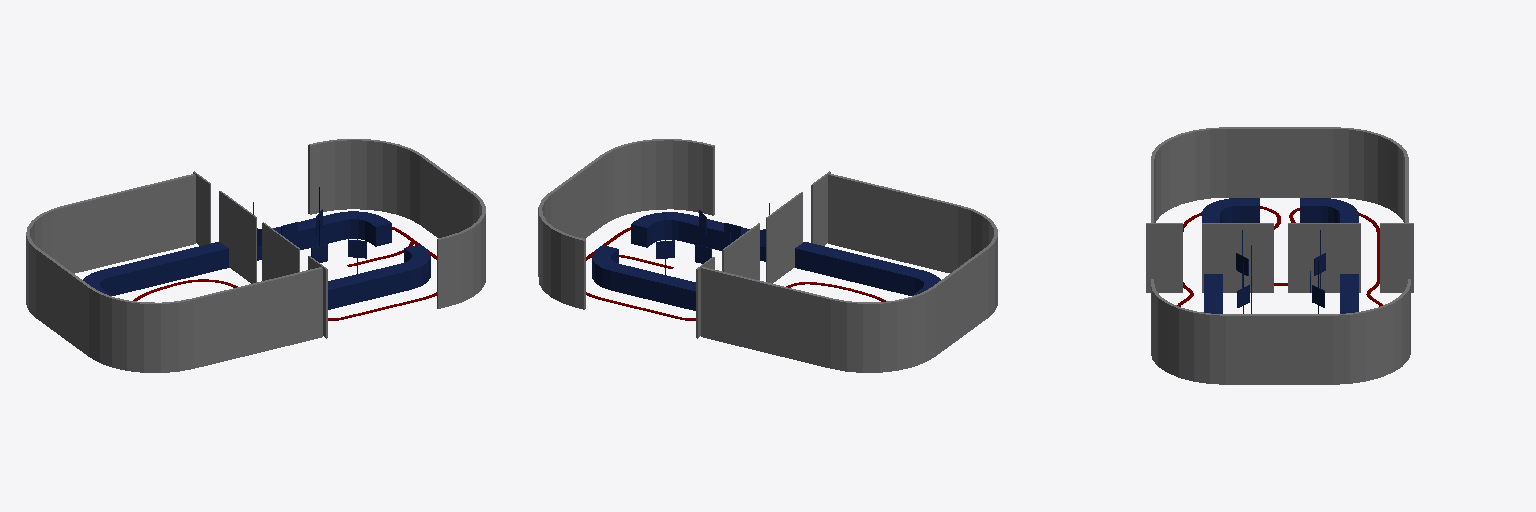
Rendered from pianotipo.obj.
3 renders of one model, left to right at view 1: azimuth 30°, elevation 25°; view 2: azimuth 150°, elevation 25°; view 3: azimuth 270°, elevation 25°, orthographic.
Parts seen in each view (by area): view 1: Layer_arredi, Layer_00_PANNELLI, Layer_percorsi; view 2: Layer_arredi, Layer_00_PANNELLI, Layer_percorsi; view 3: Layer_arredi, Layer_00_PANNELLI, Layer_percorsi.
Boxes of the visible parts, box(x1,y1,x2,y2) form: Layer_arredi: box(26, 139, 485, 372); Layer_00_PANNELLI: box(83, 187, 430, 309); Layer_percorsi: box(133, 227, 436, 320); Layer_arredi: box(538, 139, 997, 372); Layer_00_PANNELLI: box(592, 203, 940, 310); Layer_percorsi: box(586, 227, 885, 320); Layer_arredi: box(1146, 127, 1413, 384); Layer_00_PANNELLI: box(1202, 198, 1358, 313); Layer_percorsi: box(1177, 206, 1382, 306).
Bounding box in the file's own units: 2344 × 400 × 1404.